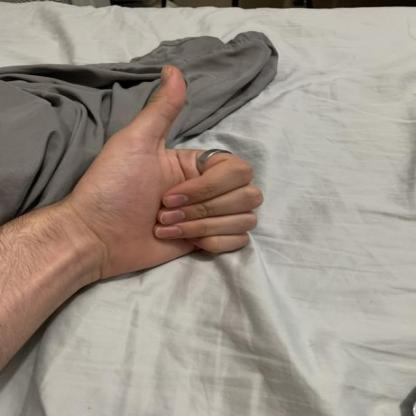Thumbs-Up: (25, 51, 266, 297)
